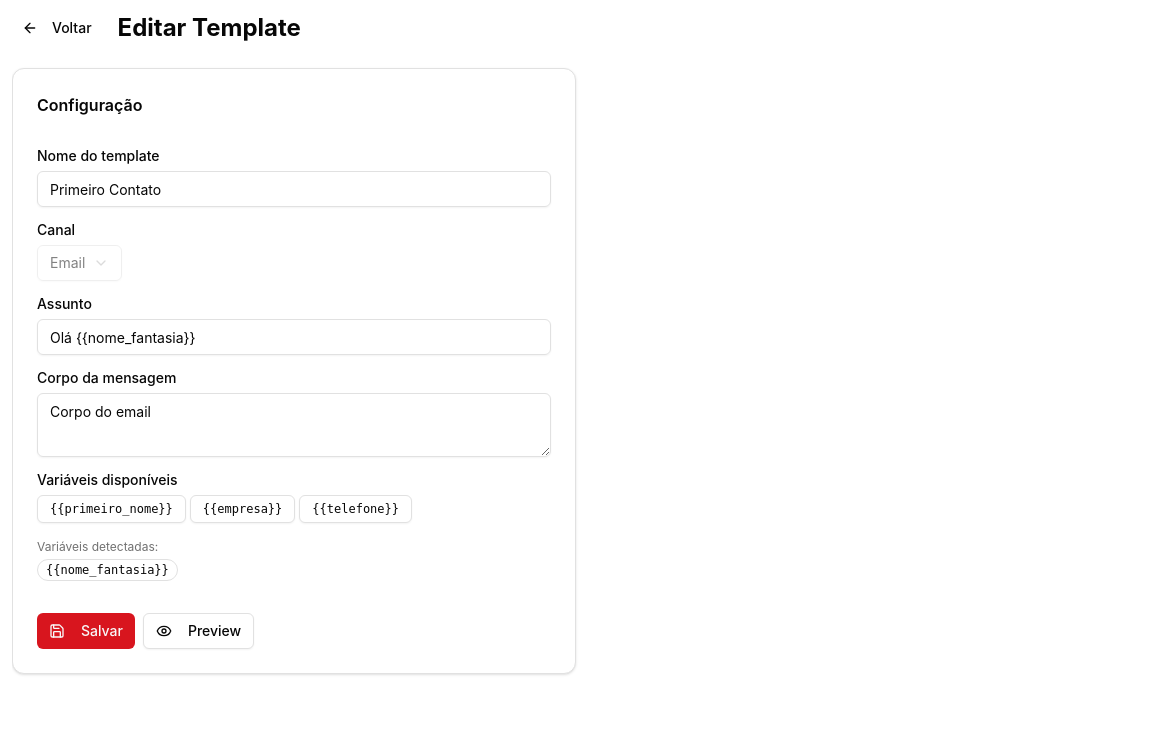
Test: TemplateEditor › should toggle preview on click
Click the button "Preview" at [199, 631], box [143, 613, 254, 649]
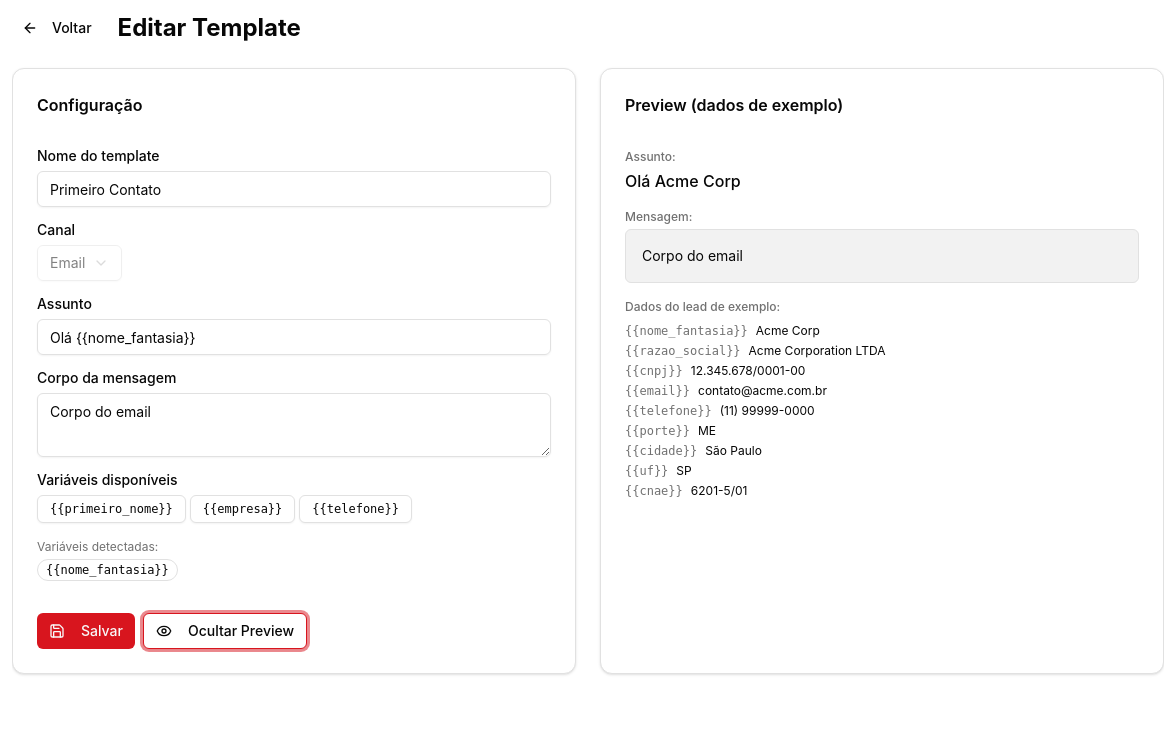
Check: the text "Preview (dados de exemplo)" is shown, box [625, 95, 843, 115]
